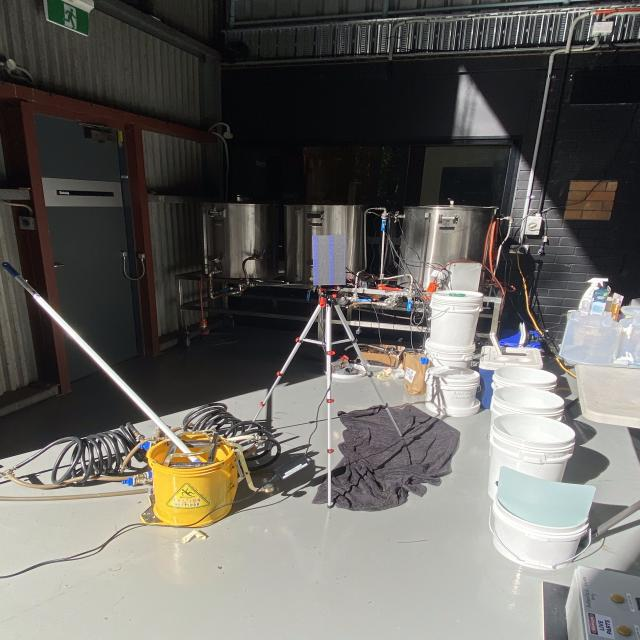matrix: (307, 230, 355, 291)
